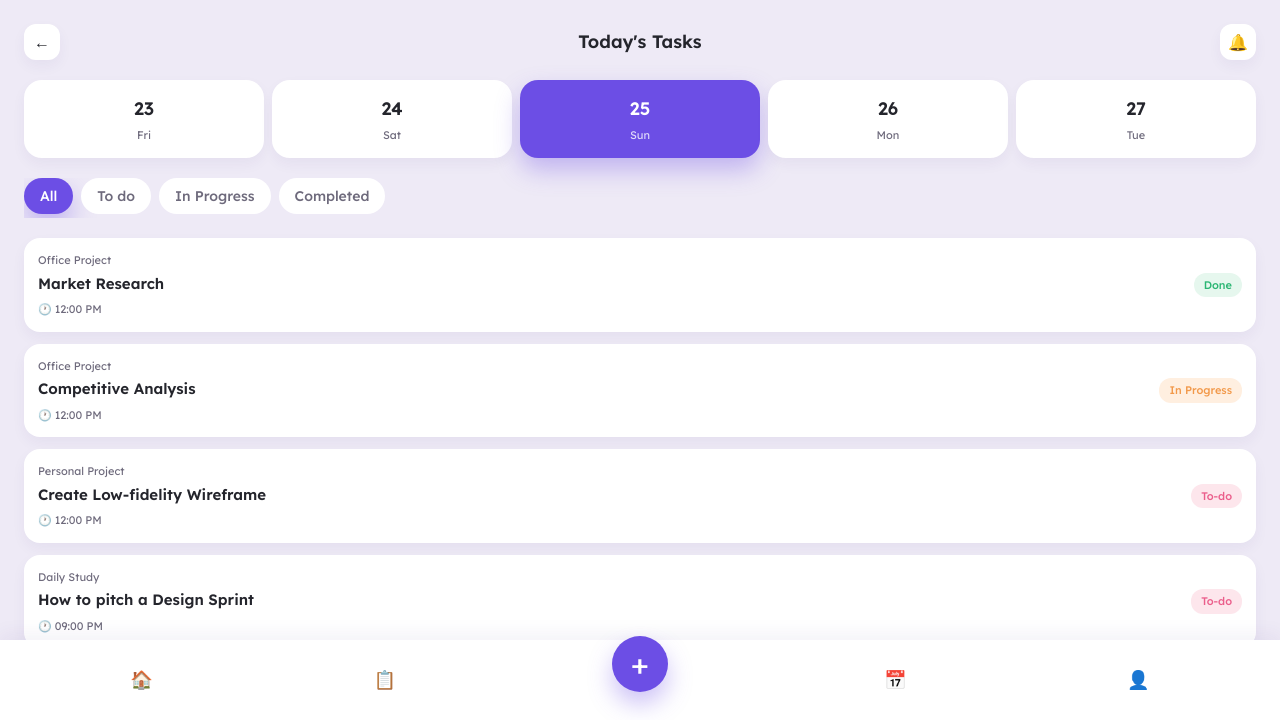
Test: TodaysTasks (TRL-004) › filters tasks when a filter pill is selected
Click the button "To do". click: (116, 196)
box: [81,178,151,214]
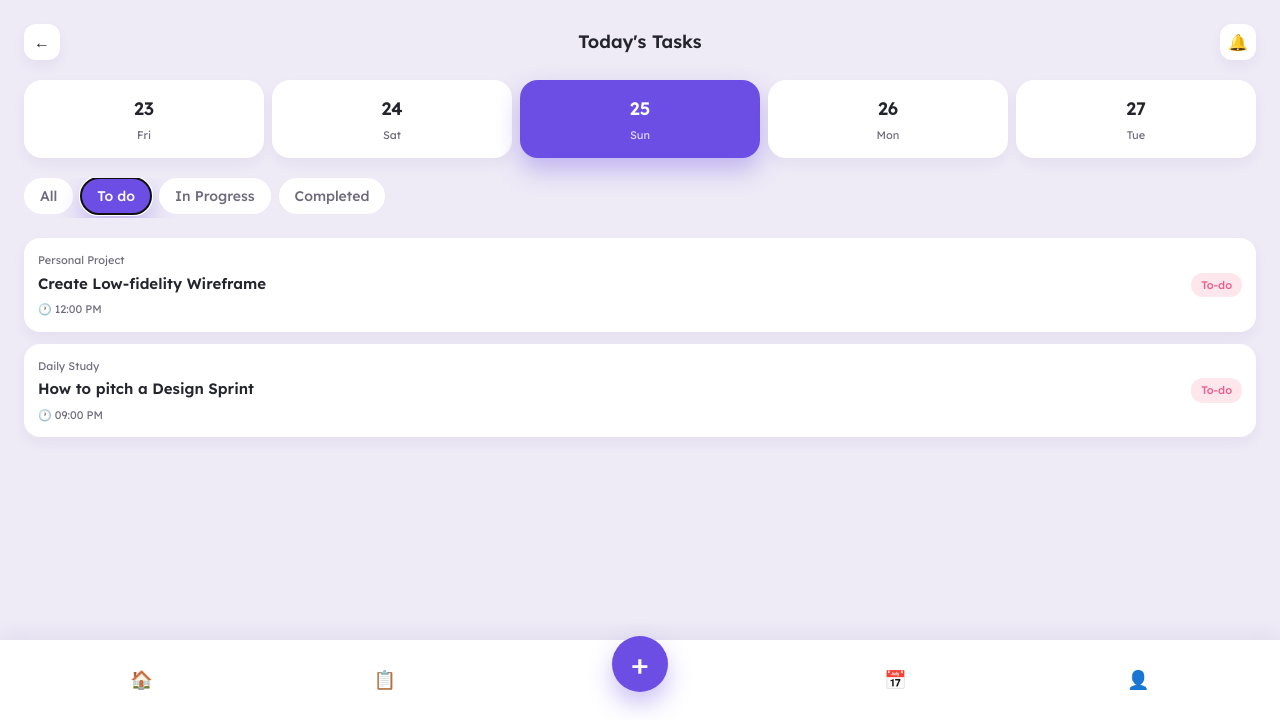
Expected: the text "Create Low-fidelity Wireframe" is shown, [38,272,266,295]
Now the text "Market Research" is gone
